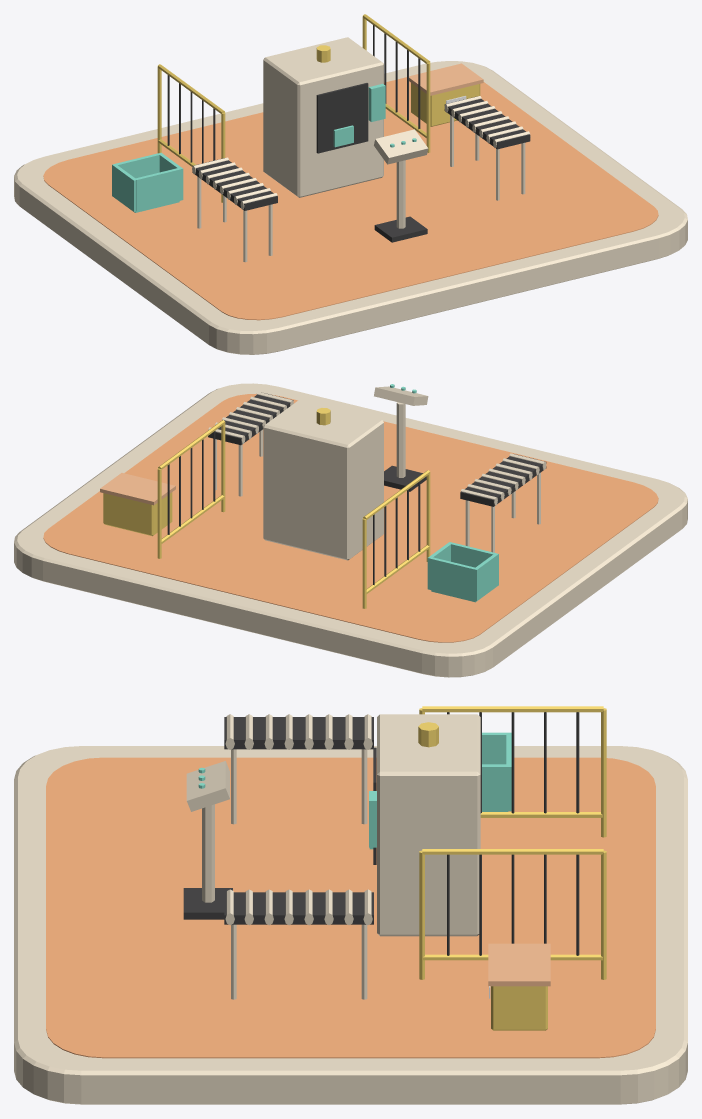
File: room.fbx
3 renders of one model, top to bottom at view 1: azimuth 30°, elevation 25°; view 2: azimuth 150°, elevation 25°; view 3: azimuth 270°, elevation 25°, orthographic. The views are drawn at different scales.
Parts seen in each view (by area): view 1: COM-02 Floor Surface, COM-01 Rounded Base Direct, Machine, Cabinet window, Belt.001, Belt, Bin end, Box, Lid, Control console, Bin side, Foot (+3 smaller); view 2: COM-02 Floor Surface, COM-01 Rounded Base Direct, Machine, Box, Belt, Bin end.001, Lid, Belt.001, Bin side, Stand, Bin end, Control console (+1 smaller); view 3: COM-02 Floor Surface, COM-01 Rounded Base Direct, Machine, Belt, Belt.001, Lid, Box, Control console, Bin side.001, Rail.001, Stand, Foot (+7 smaller).
Part boxes in pixels (bbox=[...]): COM-02 Floor Surface: bbox=[43, 77, 658, 320]; COM-01 Rounded Base Direct: bbox=[14, 61, 687, 354]; Machine: bbox=[263, 37, 383, 197]; Cabinet window: bbox=[316, 83, 368, 153]; Belt.001: bbox=[444, 96, 530, 149]; Belt: bbox=[192, 158, 277, 210]; Bin end: bbox=[136, 168, 180, 211]; Box: bbox=[411, 83, 480, 126]; Lid: bbox=[409, 63, 483, 95]; Control console: bbox=[374, 129, 428, 164]; Bin side: bbox=[112, 164, 136, 211]; Foot: bbox=[374, 216, 427, 242]; COM-02 Floor Surface: bbox=[43, 393, 658, 642]; COM-01 Rounded Base Direct: bbox=[14, 383, 687, 677]; Machine: bbox=[263, 400, 383, 560]; Box: bbox=[103, 492, 172, 536]; Belt: bbox=[460, 454, 546, 506]; Bin end.001: bbox=[430, 557, 475, 600]; Lid: bbox=[100, 473, 175, 505]; Belt.001: bbox=[208, 392, 293, 445]; Bin side: bbox=[474, 553, 498, 601]; Stand: bbox=[396, 402, 405, 477]; Bin end: bbox=[450, 542, 495, 567]; Control console: bbox=[374, 386, 428, 405]; COM-02 Floor Surface: bbox=[46, 757, 655, 1058]; COM-01 Rounded Base Direct: bbox=[14, 746, 687, 1104]; Machine: bbox=[377, 714, 480, 936]; Belt: bbox=[224, 717, 373, 749]; Belt.001: bbox=[224, 892, 373, 924]; Lid: bbox=[488, 943, 550, 986]; Box: bbox=[491, 986, 547, 1030]; Control console: bbox=[186, 761, 229, 811]; Bin side.001: bbox=[482, 764, 511, 811]; Rail.001: bbox=[422, 706, 603, 712]; Stand: bbox=[202, 804, 214, 902]; Foot: bbox=[183, 888, 232, 919].
Size of the model in its own units: 600 by 184 by 520.
